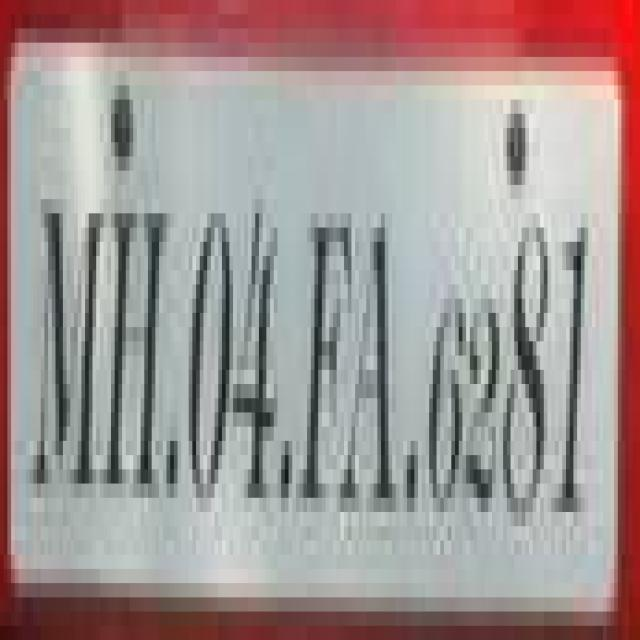plate: (4, 15, 606, 598)
